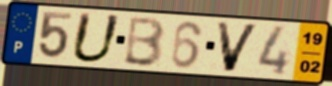4: (256, 24, 293, 78)
5: (37, 10, 75, 61)
6: (170, 19, 205, 70)
B: (121, 15, 167, 69)
U: (68, 10, 124, 65)
V: (214, 20, 262, 74)
